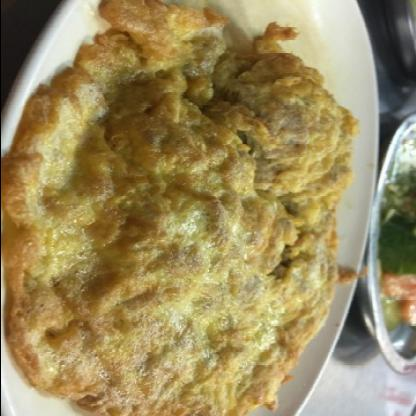Omelette: (0, 0, 358, 414)
